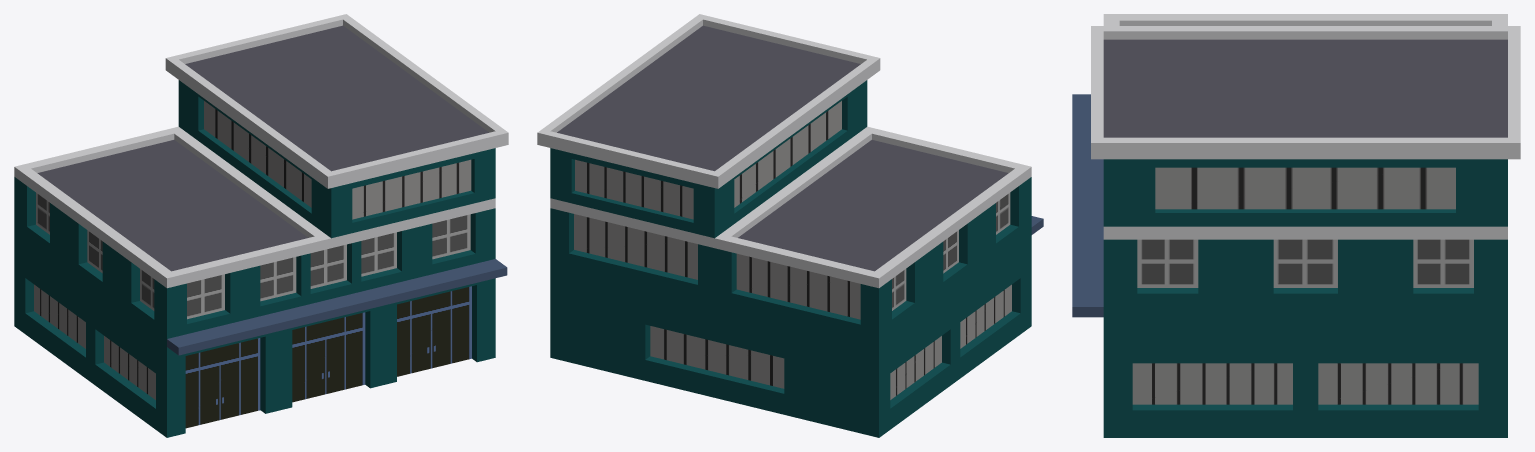
The model's file is building10a.FBX.
The picture shows the model from 3 angles, left to right: view 1: azimuth 30°, elevation 25°; view 2: azimuth 150°, elevation 25°; view 3: azimuth 270°, elevation 25°; orthographic projection. The views are drawn at different scales.
Visible parts, largest first — view 1: building10a; view 2: building10a; view 3: building10a.
Boxes of the visible parts, left/top/right/bottom form: building10a: left=14, top=14, right=508, bottom=437; building10a: left=537, top=14, right=1043, bottom=437; building10a: left=1072, top=14, right=1520, bottom=437.
Bounding box in the file's own units: 20.62 × 13.25 × 17.93.
